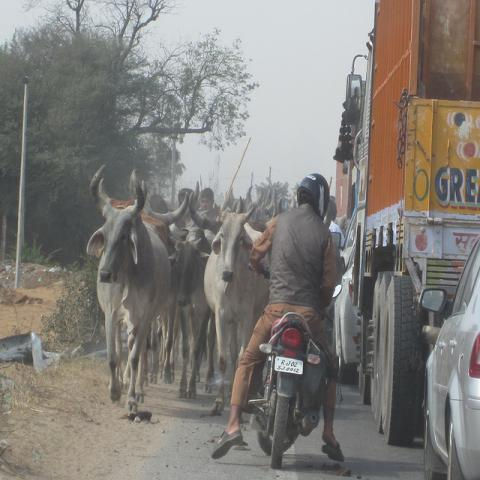car: (418, 234, 480, 479), (334, 242, 361, 382)
motorcycle: (244, 308, 326, 471)
truck: (341, 0, 480, 449)
